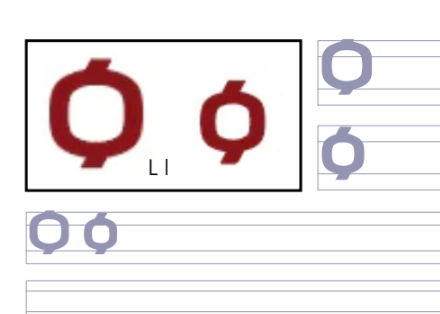L: (45, 50, 153, 174), (318, 36, 378, 99), (23, 205, 75, 261)
l: (187, 76, 274, 169), (314, 121, 374, 185), (81, 207, 125, 258)
